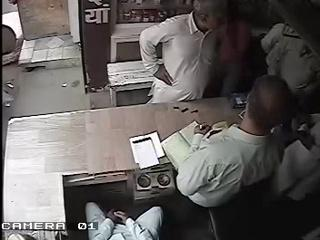Normal: (174, 75, 300, 236), (138, 0, 228, 104), (85, 202, 163, 240)
